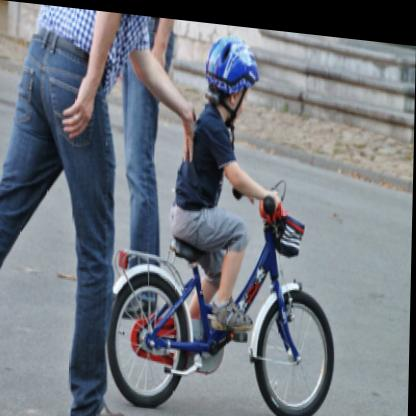With Helmet: (205, 22, 263, 123)
